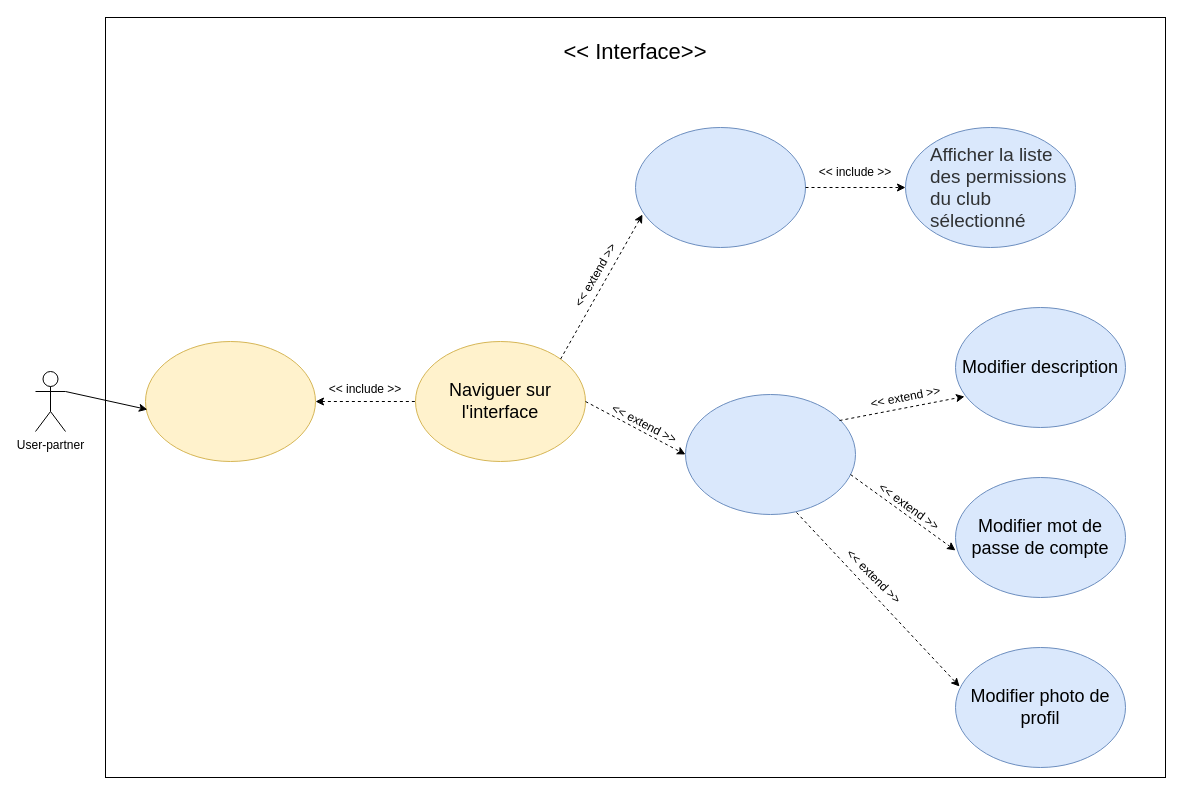
The diagram is 1183 pixels wide and 795 high, and some of its shapes have lost their labels. Here are the shapes that lost their labels. From the top down, the centre of each, then its label:
the point at 720,187: Consulter la liste des clubs
the point at 230,401: Login
the point at 770,454: Afficher réglages de compte
